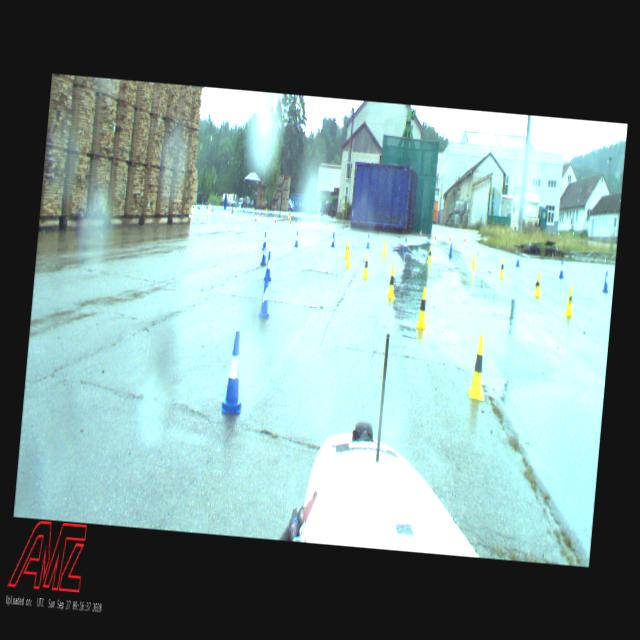blue_cone: (220, 329, 248, 414), (258, 273, 272, 318), (264, 250, 274, 282), (260, 241, 268, 266), (602, 270, 610, 292), (261, 232, 268, 250), (558, 258, 564, 278), (515, 250, 521, 266), (330, 232, 336, 247), (294, 230, 299, 247), (403, 237, 408, 252), (366, 234, 370, 248), (448, 242, 452, 256)
orange_cone: (418, 228, 422, 238), (448, 232, 452, 241), (288, 215, 292, 224), (316, 217, 320, 226), (434, 230, 437, 239), (463, 234, 466, 242), (274, 213, 276, 223), (302, 216, 304, 225)
yellow_cone: (466, 334, 489, 401), (416, 287, 430, 329), (564, 285, 575, 317), (386, 266, 396, 298), (361, 253, 370, 279), (534, 271, 543, 296), (344, 245, 352, 268), (498, 258, 506, 278), (381, 240, 387, 258), (471, 252, 477, 270), (344, 239, 349, 258), (427, 246, 432, 262)
